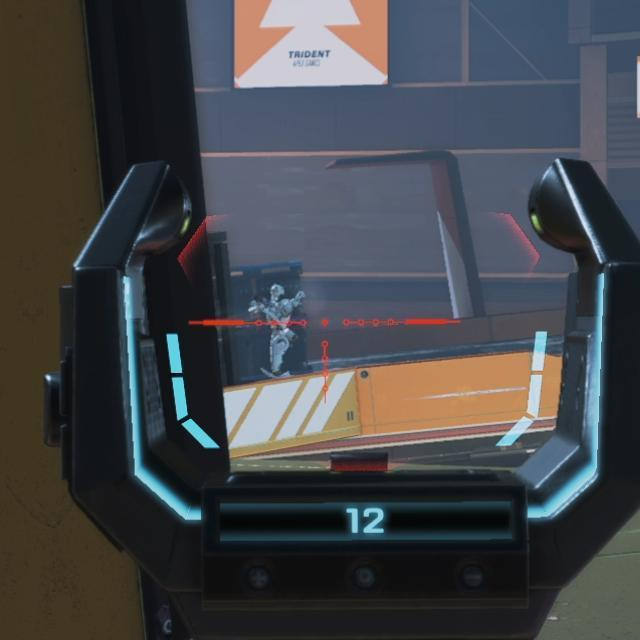avatar: (247, 283, 308, 376)
